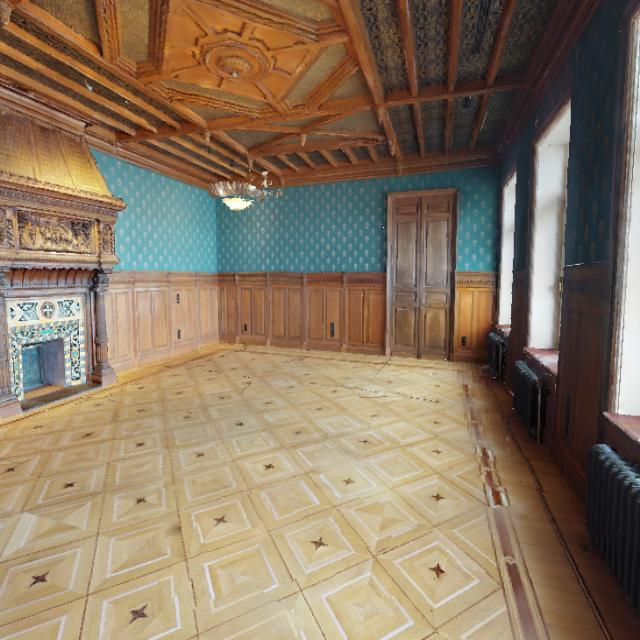door: (380, 185, 462, 386)
